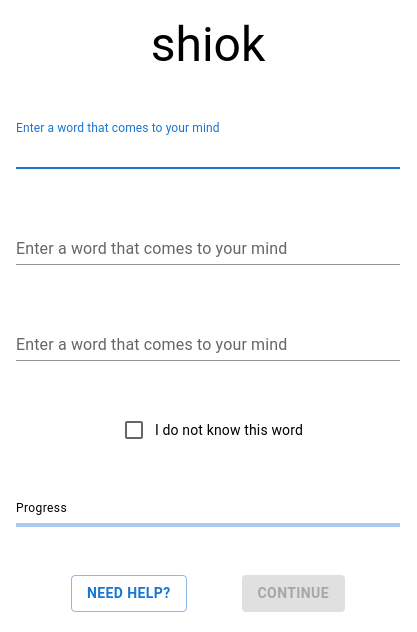
Test case: QuizPage › advances to the next cue after a valid response
The image size is (417, 632).
In the 1st field labelled "Enter a word that comes to your mind": (208,153) [16,137,400,169], type "kopi"
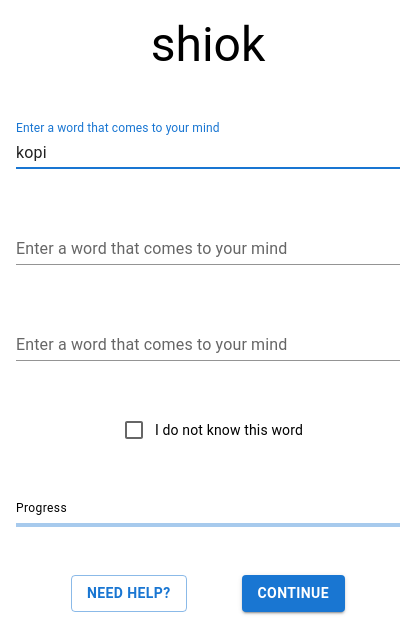
Click the button "continue": (293,593) [242,575,345,612]
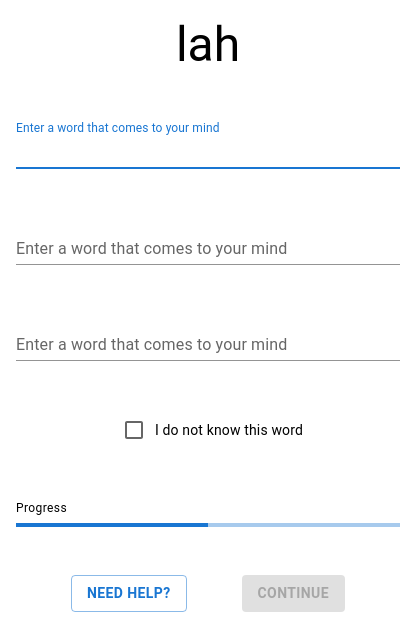
Now the heading "lah" is shown, box [176,16,240,73]
